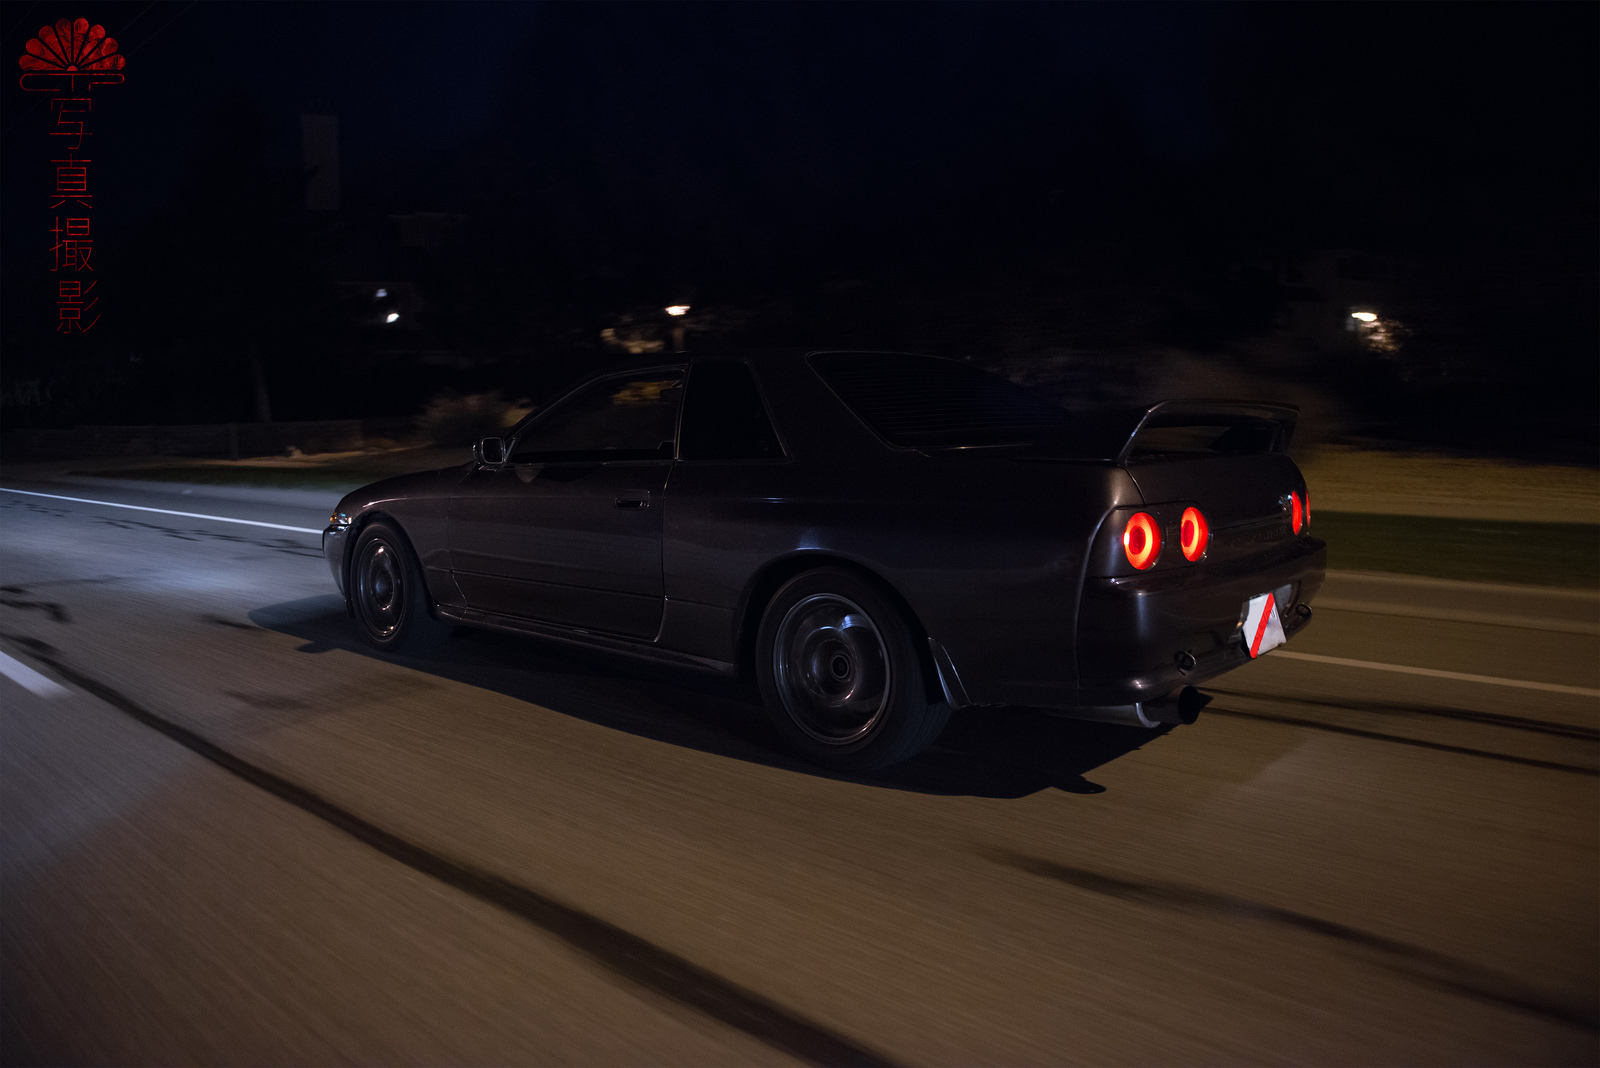car: (301, 294, 1347, 815)
